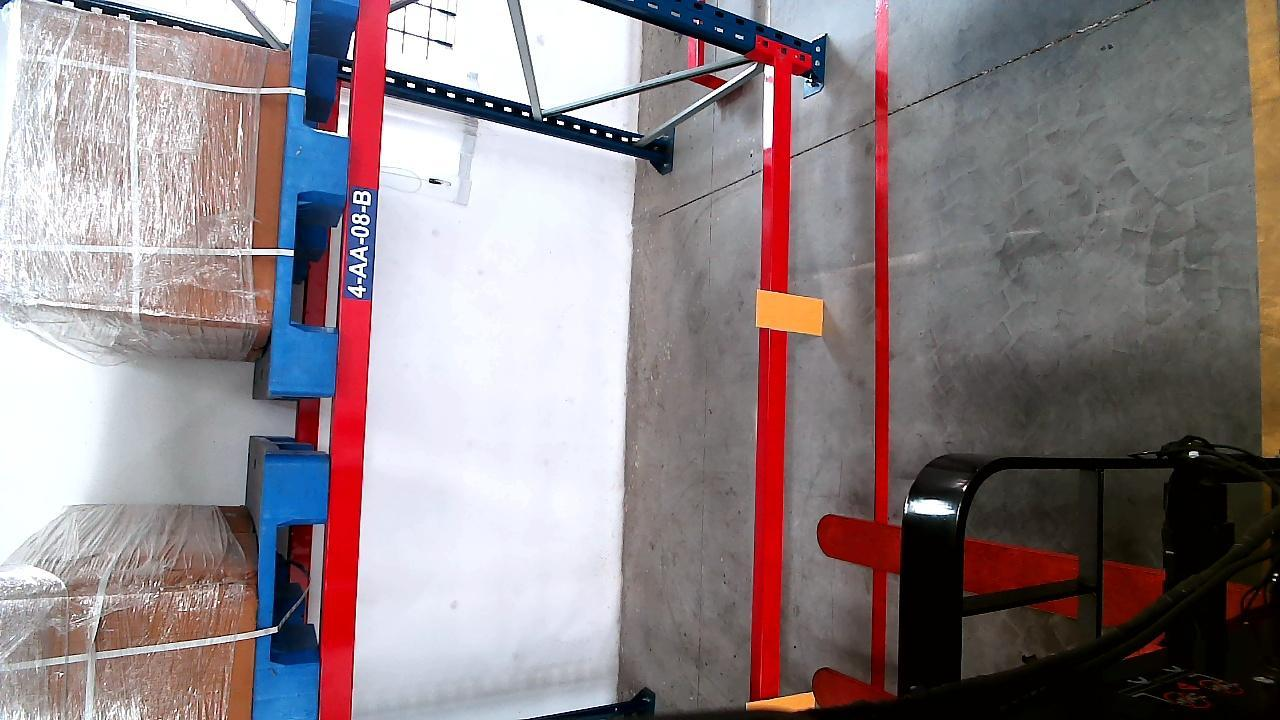red_line: (865, 22, 899, 677)
